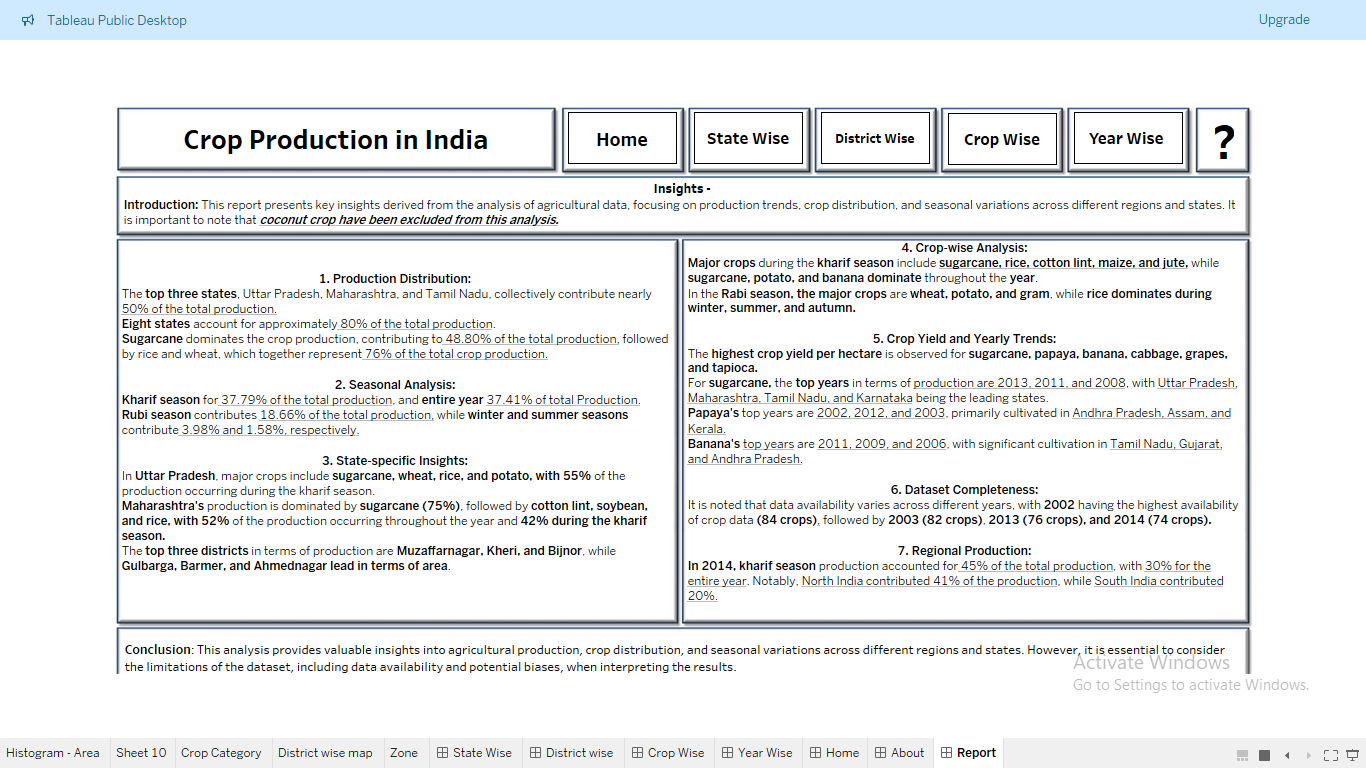

Layout of this report page (visuals, bound fields, positions):
{"tool":"tableau","page":{"name":"Dashboard 7","canvas":[1000,1000],"units":"permille","ordinal":2},"visuals":[{"type":"text","box":[526.4,88.8,473.6,907.6]}]}

Visuals, with their boxes on the dashboard's canvas, which has no fixed pixel size, in thousandths of its width and height (x1, y1, x2, y2). These are canvas units, not pixel positions in the 1366x768 screenshot, which may show the page scaled, cropped or inside an application window:
text: rect(526, 89, 1000, 996)
